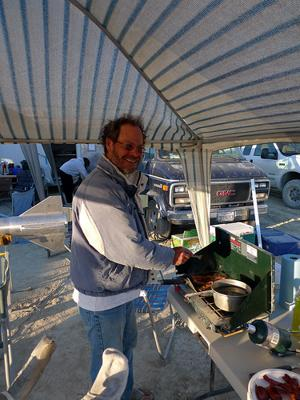person: (69, 114, 194, 400)
